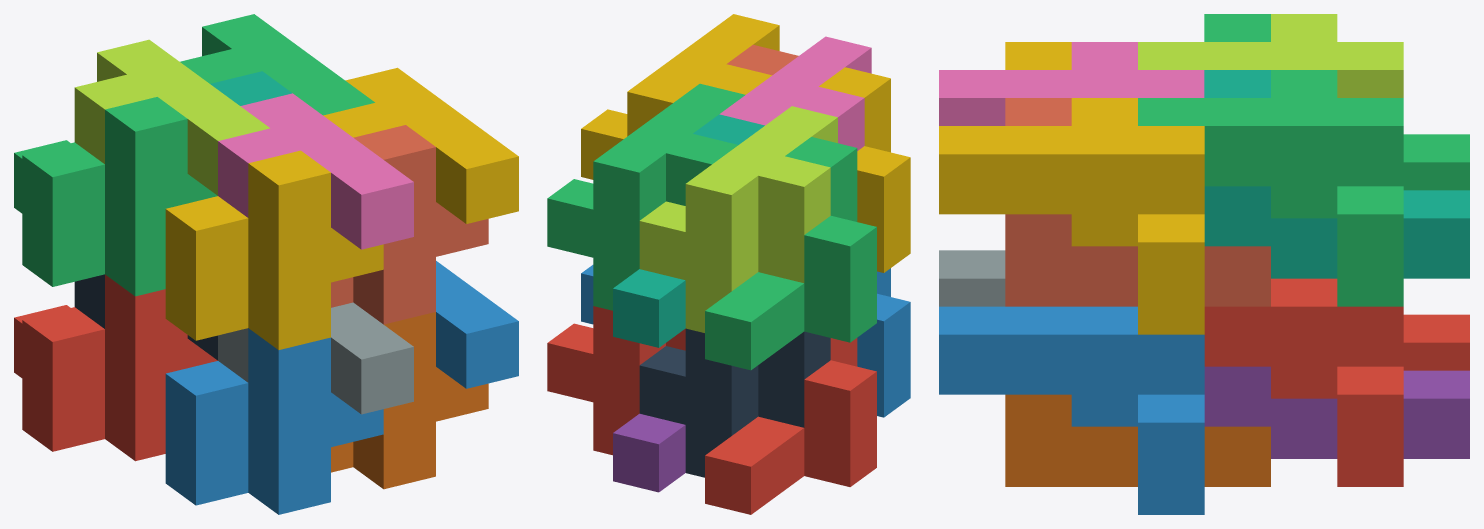
File: tiling.obj
The picture shows the model from 3 angles, left to right: view 1: azimuth 30°, elevation 25°; view 2: azimuth 150°, elevation 25°; view 3: azimuth 270°, elevation 25°; orthographic projection. The views are drawn at different scales.
Parts seen in each view (by area): view 1: copy_1_domain_4, copy_1_domain_2, copy_1_domain_3, copy_1_domain_1, copy_2_domain_4, copy_2_domain_8, copy_1_domain_8, copy_2_domain_3, copy_1_domain_6, copy_2_domain_2, copy_2_domain_7, copy_2_domain_6 (+2 smaller); view 2: copy_2_domain_3, copy_1_domain_3, copy_2_domain_7, copy_1_domain_1, copy_2_domain_1, copy_2_domain_8, copy_2_domain_5, copy_1_domain_4, copy_2_domain_4, copy_1_domain_7, copy_1_domain_2, copy_1_domain_5 (+2 smaller); view 3: copy_2_domain_8, copy_2_domain_6, copy_2_domain_7, copy_2_domain_5, copy_1_domain_8, copy_1_domain_7, copy_1_domain_6, copy_1_domain_5, copy_2_domain_3, copy_2_domain_4, copy_1_domain_3, copy_2_domain_2 (+2 smaller).
Part boxes in pixels (x1,y1,x2,y2): copy_1_domain_4: (165,150,383,349); copy_1_domain_2: (165,328,383,514); copy_1_domain_3: (14,97,217,296); copy_1_domain_1: (14,274,217,461); copy_2_domain_4: (218,93,413,249); copy_2_domain_8: (323,67,518,223); copy_1_domain_8: (331,125,488,324); copy_2_domain_3: (74,39,269,195); copy_1_domain_6: (331,312,488,489); copy_2_domain_2: (218,302,413,414); copy_2_domain_7: (180,14,374,115); copy_2_domain_6: (436,261,518,388); copy_2_domain_3: (639,106,837,332); copy_1_domain_3: (705,137,876,370); copy_2_domain_7: (547,83,745,310); copy_1_domain_1: (705,338,876,514); copy_2_domain_1: (639,328,830,477); copy_2_domain_8: (581,14,779,179); copy_2_domain_5: (547,306,685,455); copy_1_domain_4: (819,67,910,272); copy_2_domain_4: (719,36,871,150); copy_1_domain_7: (613,114,764,347); copy_1_domain_2: (857,268,910,417); copy_1_domain_5: (613,413,685,492); copy_2_domain_8: (939,98,1204,334); copy_2_domain_6: (939,306,1204,514); copy_2_domain_7: (1138,70,1403,306); copy_2_domain_5: (1204,278,1403,486); copy_1_domain_8: (1005,98,1270,306); copy_1_domain_7: (1204,70,1469,278); copy_1_domain_6: (1005,394,1270,486); copy_1_domain_5: (1204,366,1469,458); copy_2_domain_3: (1138,14,1403,97); copy_2_domain_4: (939,42,1204,125); copy_1_domain_3: (1204,14,1469,190); copy_2_domain_2: (939,250,1005,306).
Bounding box in the file's own units: 7 × 6 × 8.
